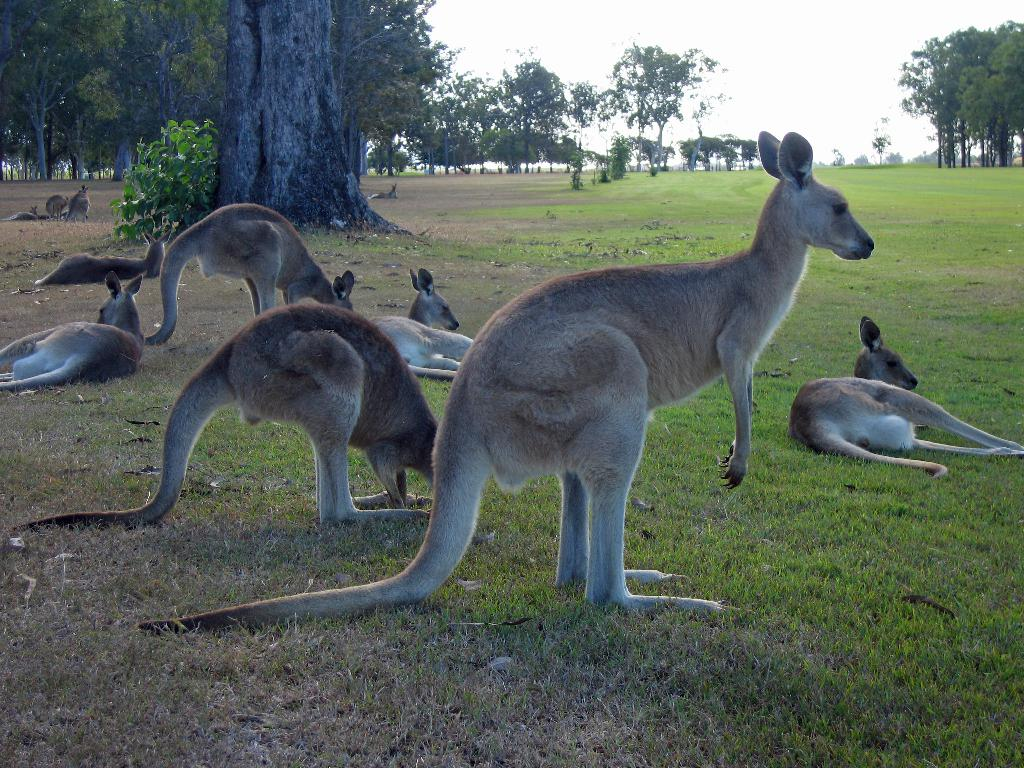kangaroo: (137, 126, 876, 629)
